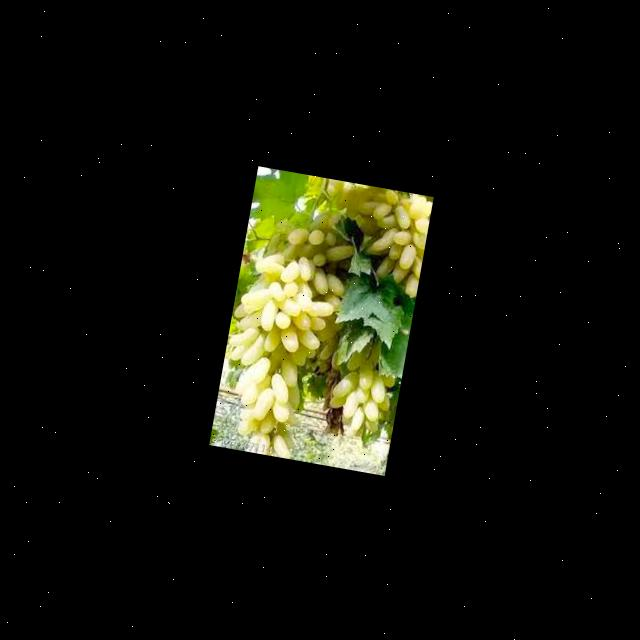grape: (218, 213, 338, 436)
